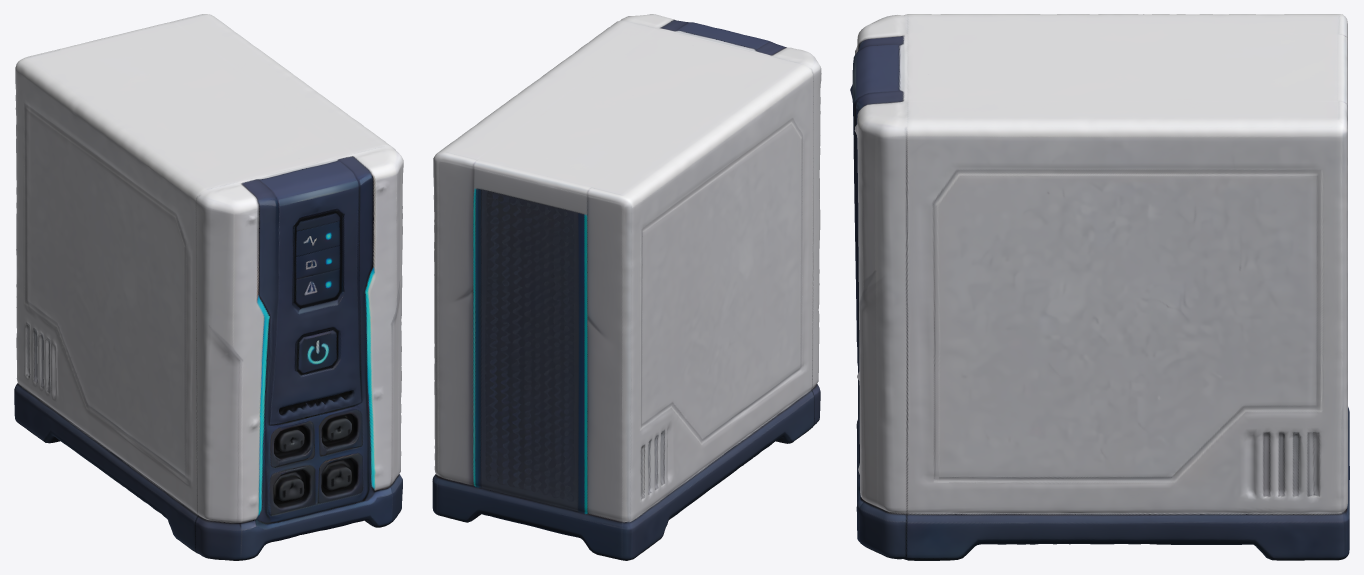
File: PowerUps.fbx
3 views of the same model, side by side, from view 1: azimuth 30°, elevation 25°; view 2: azimuth 150°, elevation 25°; view 3: azimuth 270°, elevation 25° (orthographic). The views are drawn at different scales.
Parts seen in each view (by area): view 1: model.003; view 2: model.003; view 3: model.003.
Boxes of the visible parts, x1,y1,x2,y2 form: model.003: (14, 14, 403, 560); model.003: (432, 14, 821, 560); model.003: (850, 14, 1349, 560).
Bounding box in the file's own units: 102 × 176 × 182.
Materials: 1 (1 with a texture image).
